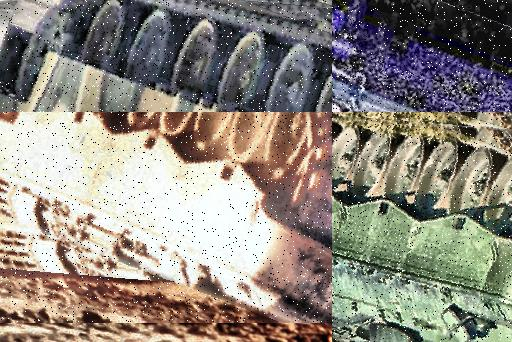tanks: (1, 113, 333, 323), (333, 123, 512, 342), (1, 1, 333, 113), (333, 1, 512, 113)
